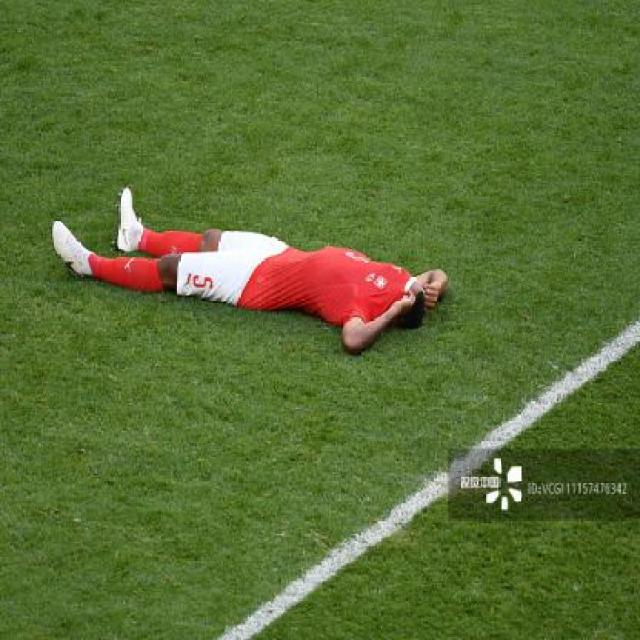fall: (42, 166, 447, 354)
